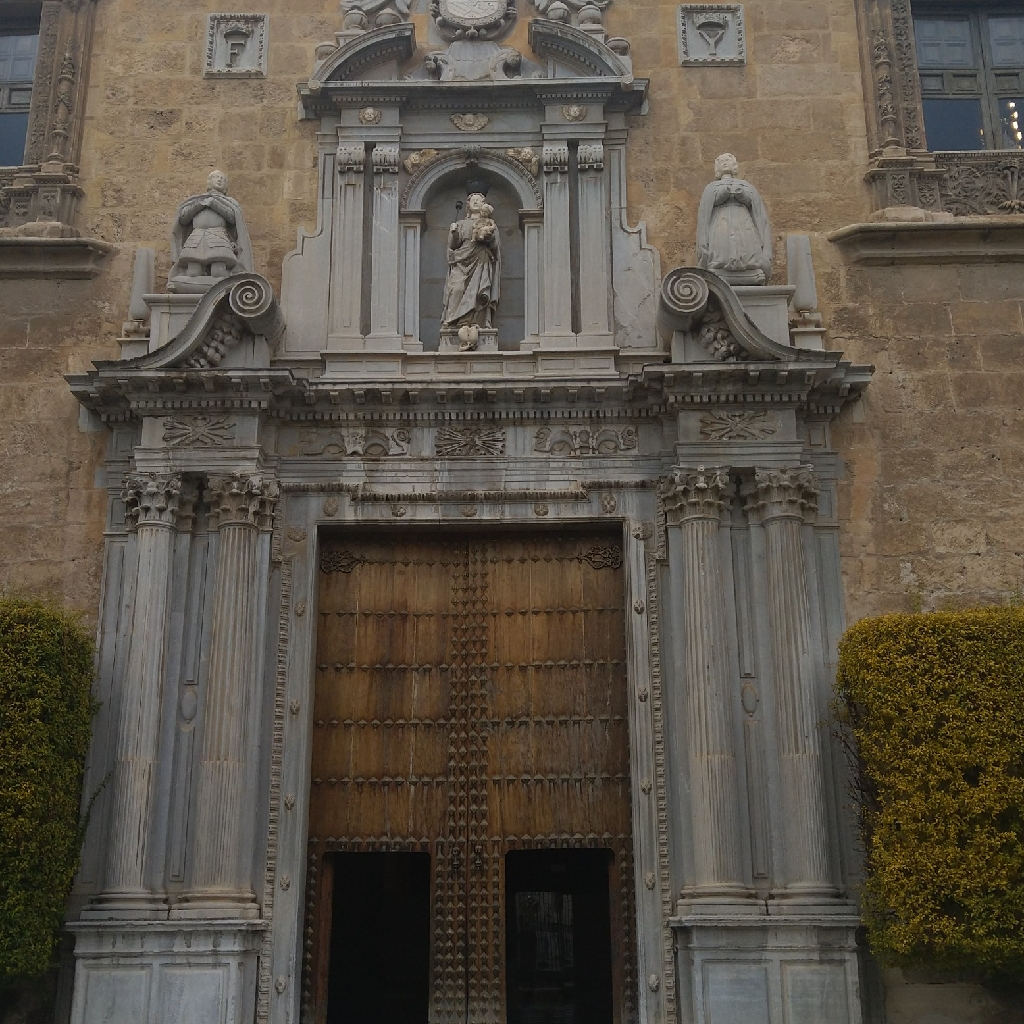arco-medio-punto: (402, 148, 534, 230)
fronton-partido: (91, 265, 844, 385), (304, 17, 640, 98)
vano-adintelado: (267, 492, 676, 1024)
